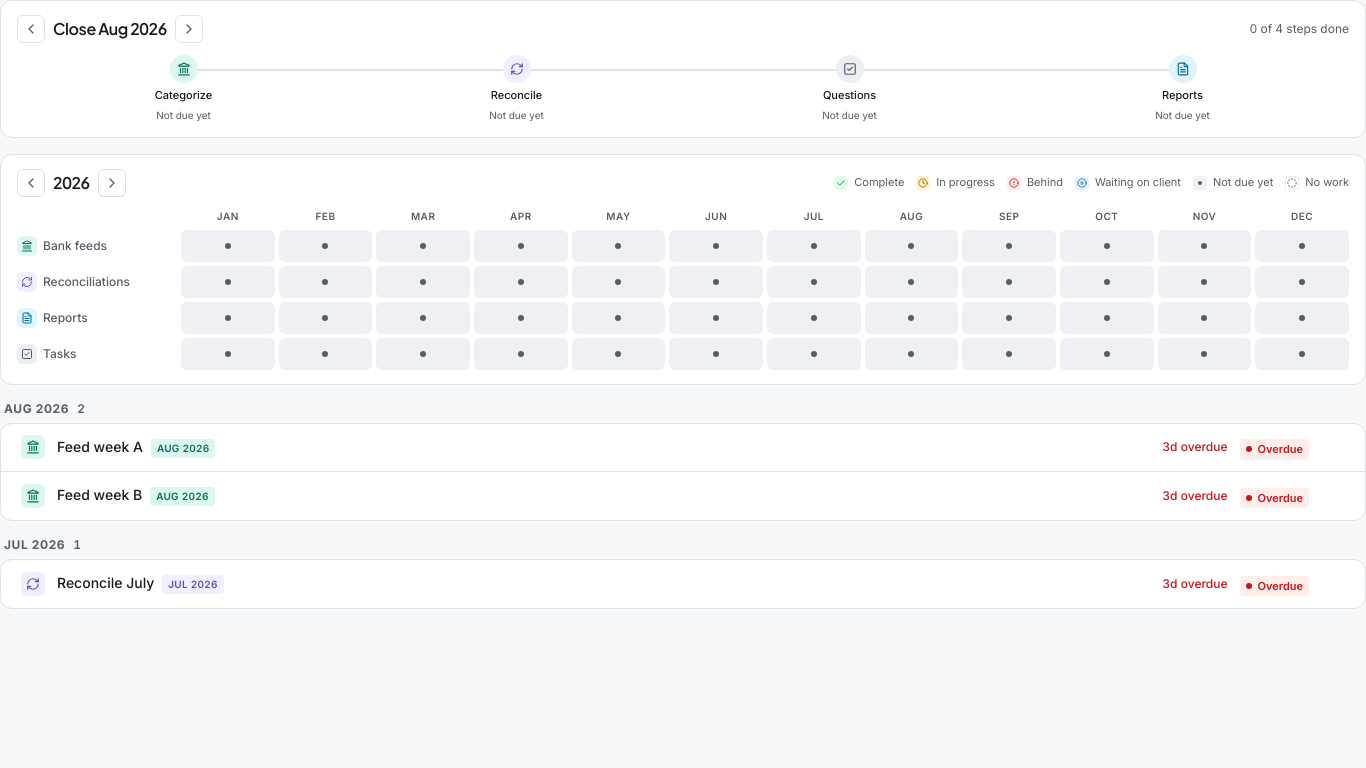
it: ClientWorkTab › says so when the drilled cell has no open work
Click the button named "Tasks, Aug 2026". click: (912, 354)
box: [865,338,958,370]
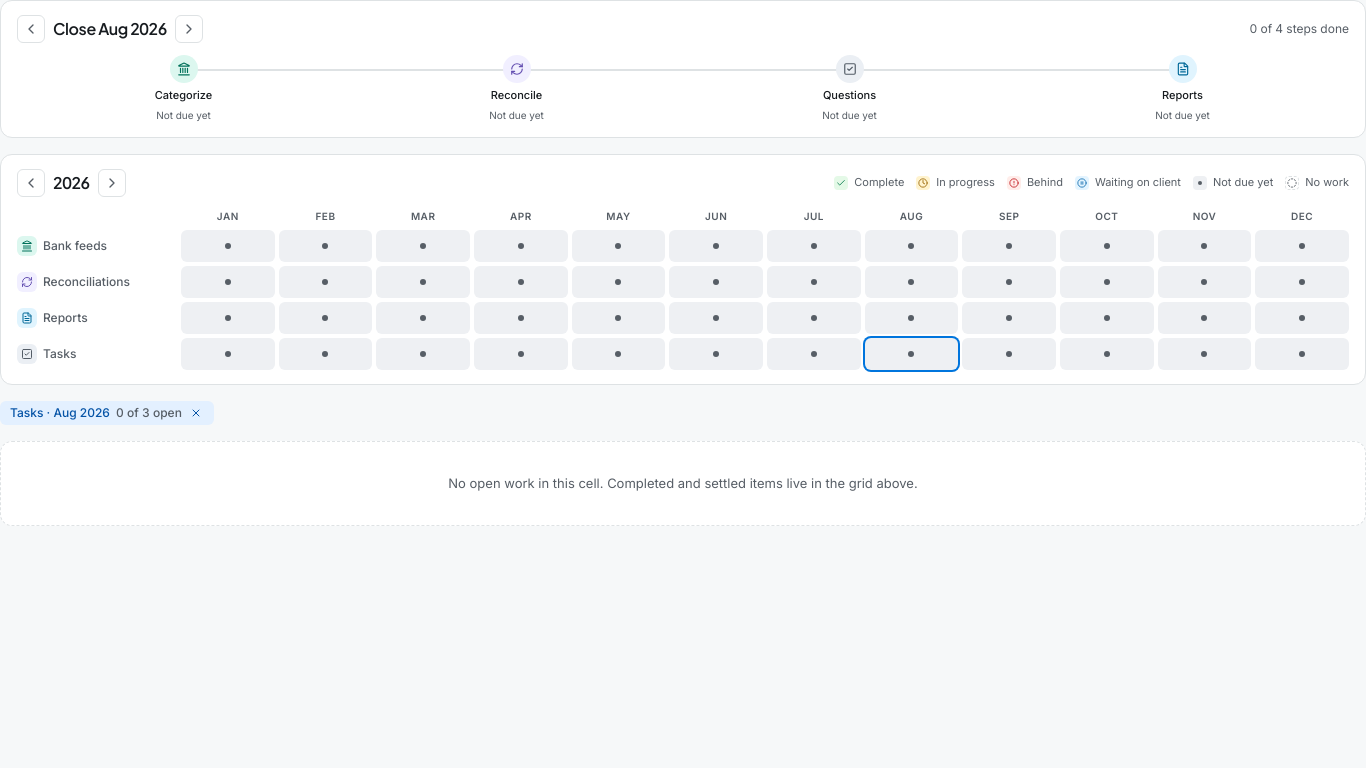
Expected: the text with test id "year-grid-filter-empty" is shown, [0,440,1365,526]
Expected: no elements with test id "client-work-row" are shown
